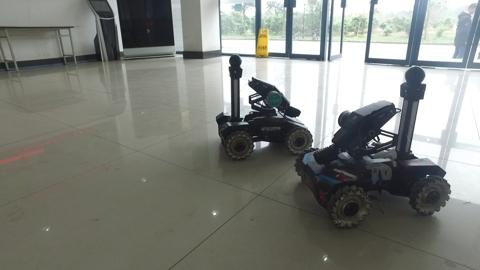chariot: (288, 62, 453, 235), (210, 53, 316, 161)
